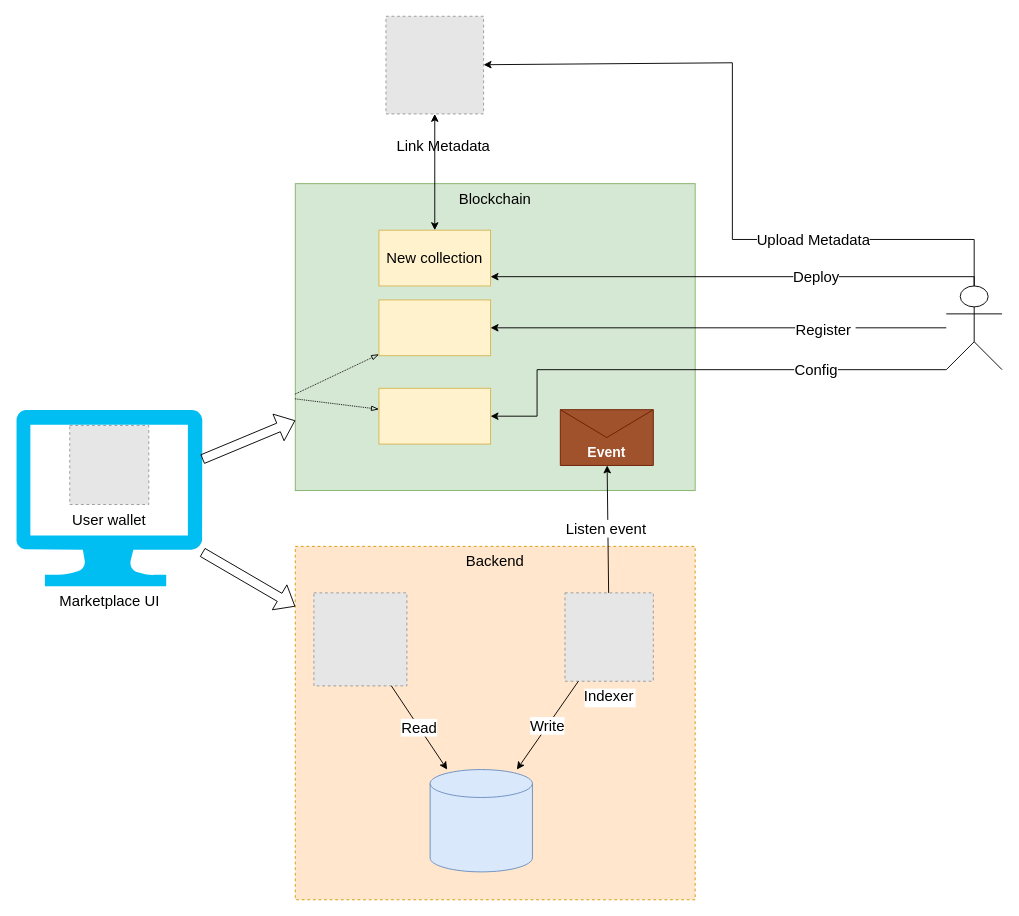
Some shapes in this 1019 by 916 pixel diagram are drawn without their labels. Grey dashed boxes stand in for pictures. Each missing label, with the centre of its shape:
"Database" goes at (480,820).
"Launchpad contract" goes at (434,327).
"NFT Marketplace" goes at (434,415).
"Operator" goes at (973,327).
